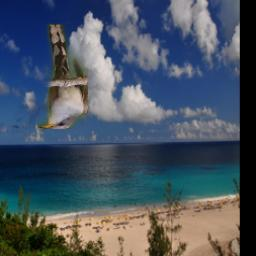Cuckoo: (37, 24, 88, 129)
